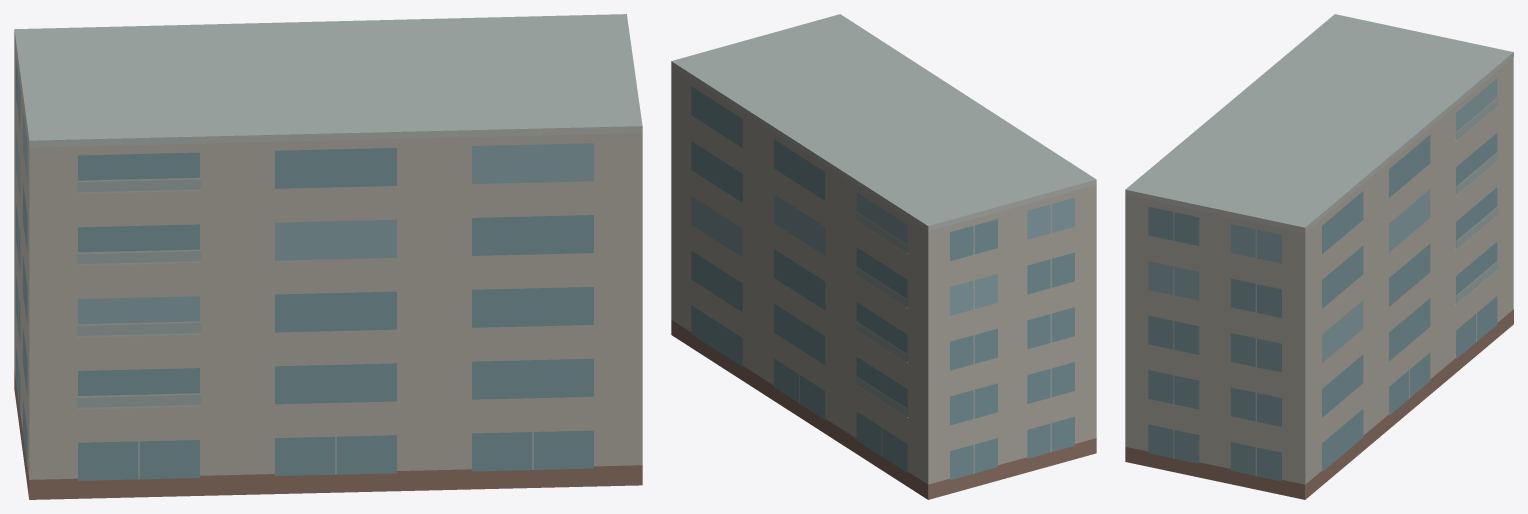
The model's file is survey-upis-32891663.glb.
The picture shows the model from 3 angles, left to right: view 1: azimuth 30°, elevation 25°; view 2: azimuth 150°, elevation 25°; view 3: azimuth 270°, elevation 25°; orthographic projection. The views are drawn at different scales.
Visible parts, largest first — view 1: survey-upis-32891663.tmp; view 2: survey-upis-32891663.tmp; view 3: survey-upis-32891663.tmp.
Boxes of the visible parts, box(x1,y1,x2,y2) form: survey-upis-32891663.tmp: box(14, 14, 642, 499); survey-upis-32891663.tmp: box(671, 14, 1096, 499); survey-upis-32891663.tmp: box(1125, 14, 1513, 499).
Bounding box in the file's own units: 21.05 × 12.5 × 16.18.
